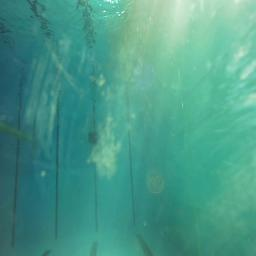Full: (88, 136, 99, 144)
